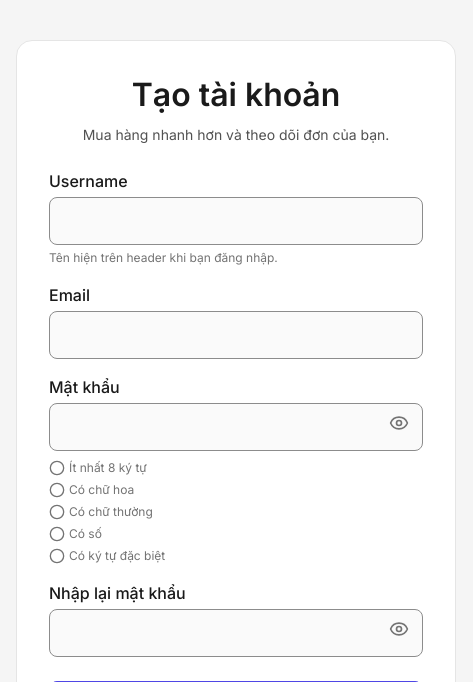
RegisterPage › submit_blocksBeforeCognito_whenPasswordsDiffer
Type "an_nguyen" into the field labelled "Username" at (236, 221), box x1=49 y1=197 x2=423 y2=245
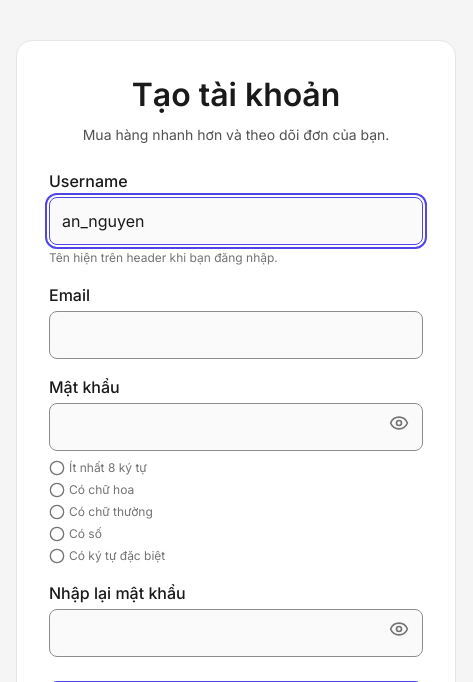
Type "an@example.com" into the field labelled "Email" at (236, 335), box x1=49 y1=311 x2=423 y2=359
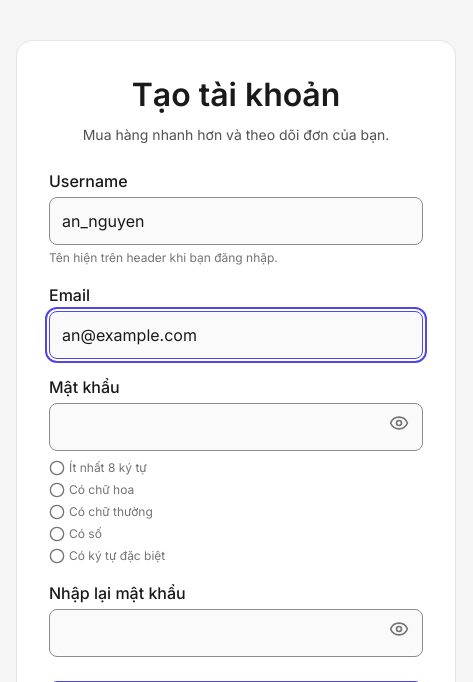
Type "Abcdef1!" into the password field labelled "Mật khẩu" at (236, 427), box x1=49 y1=403 x2=423 y2=451
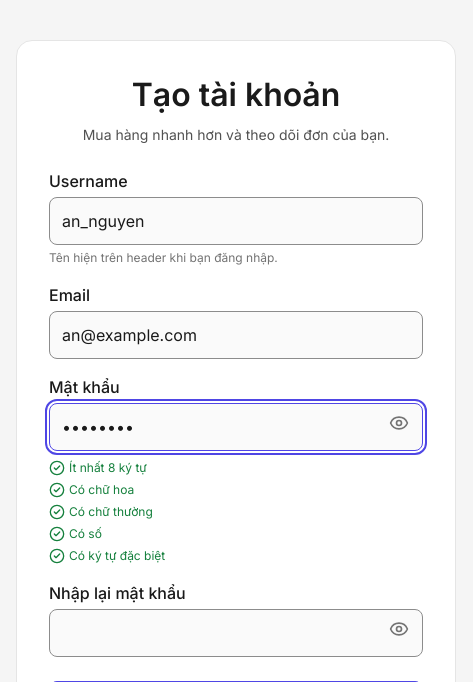
Type "Abcdef1?" into the password field labelled "Nhập lại mật khẩu" at (236, 633), box x1=49 y1=609 x2=423 y2=657
(page scrolled)
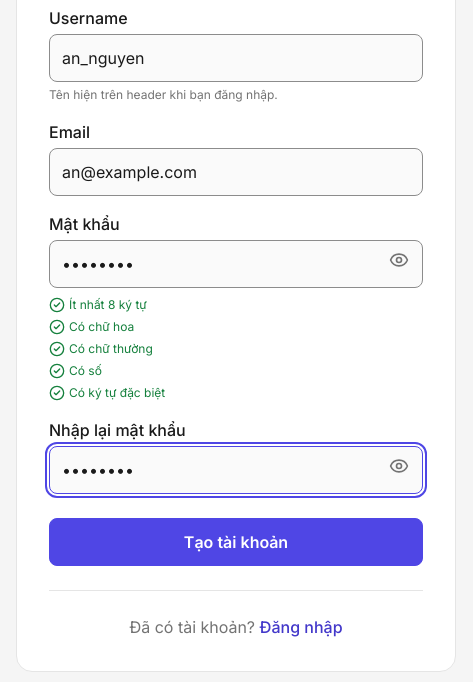
Click the button "Tạo tài khoản" at (236, 542), box x1=49 y1=518 x2=423 y2=566
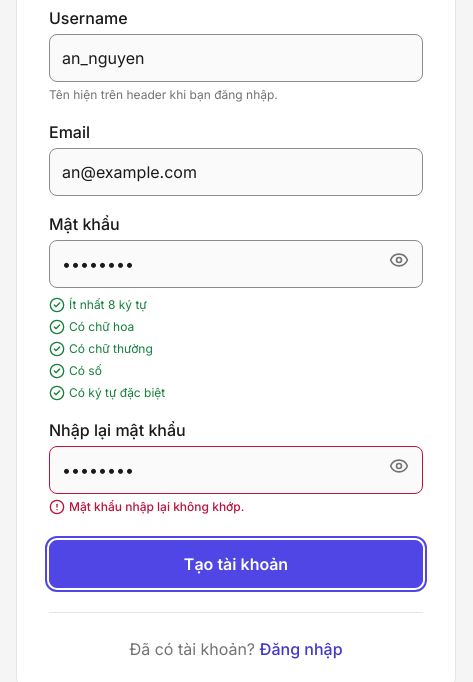
Expected: the text "Mật khẩu nhập lại không khớp." is shown, x1=49 y1=499 x2=244 y2=515
